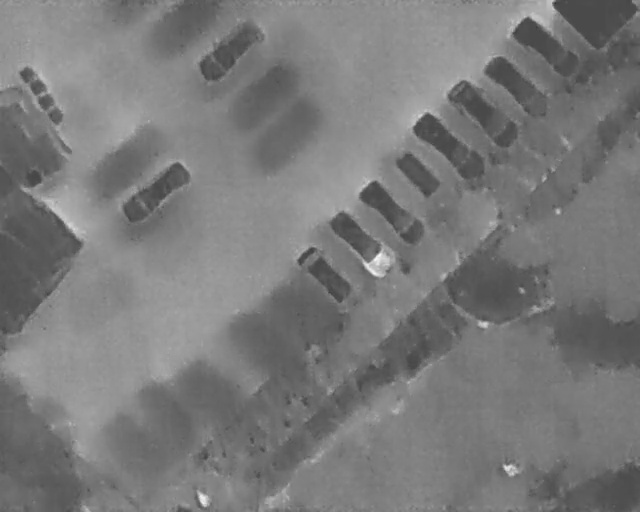Car: (442, 73, 524, 154), (407, 107, 491, 186), (478, 48, 558, 126), (322, 206, 402, 281), (115, 155, 196, 229), (190, 12, 268, 86), (353, 176, 431, 250), (506, 11, 585, 84), (291, 240, 360, 307)
